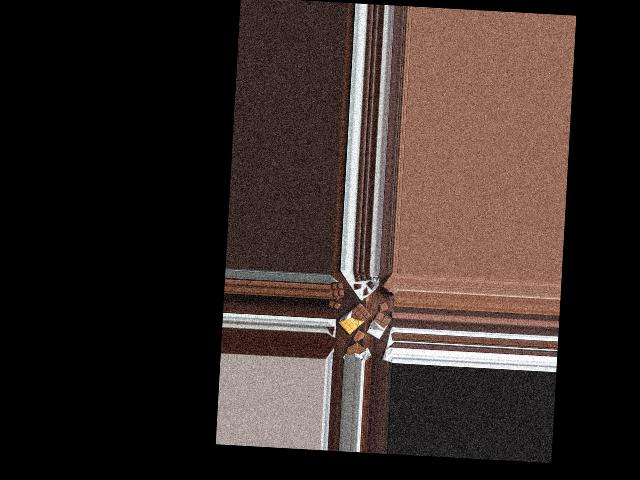chocolate: (365, 311, 393, 338)
